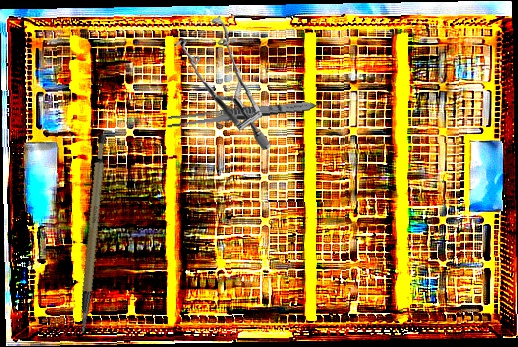Dressing Forceps: (165, 97, 317, 131)
Scalpel Handle: (47, 132, 134, 334)
Speculum: (168, 12, 279, 151)
